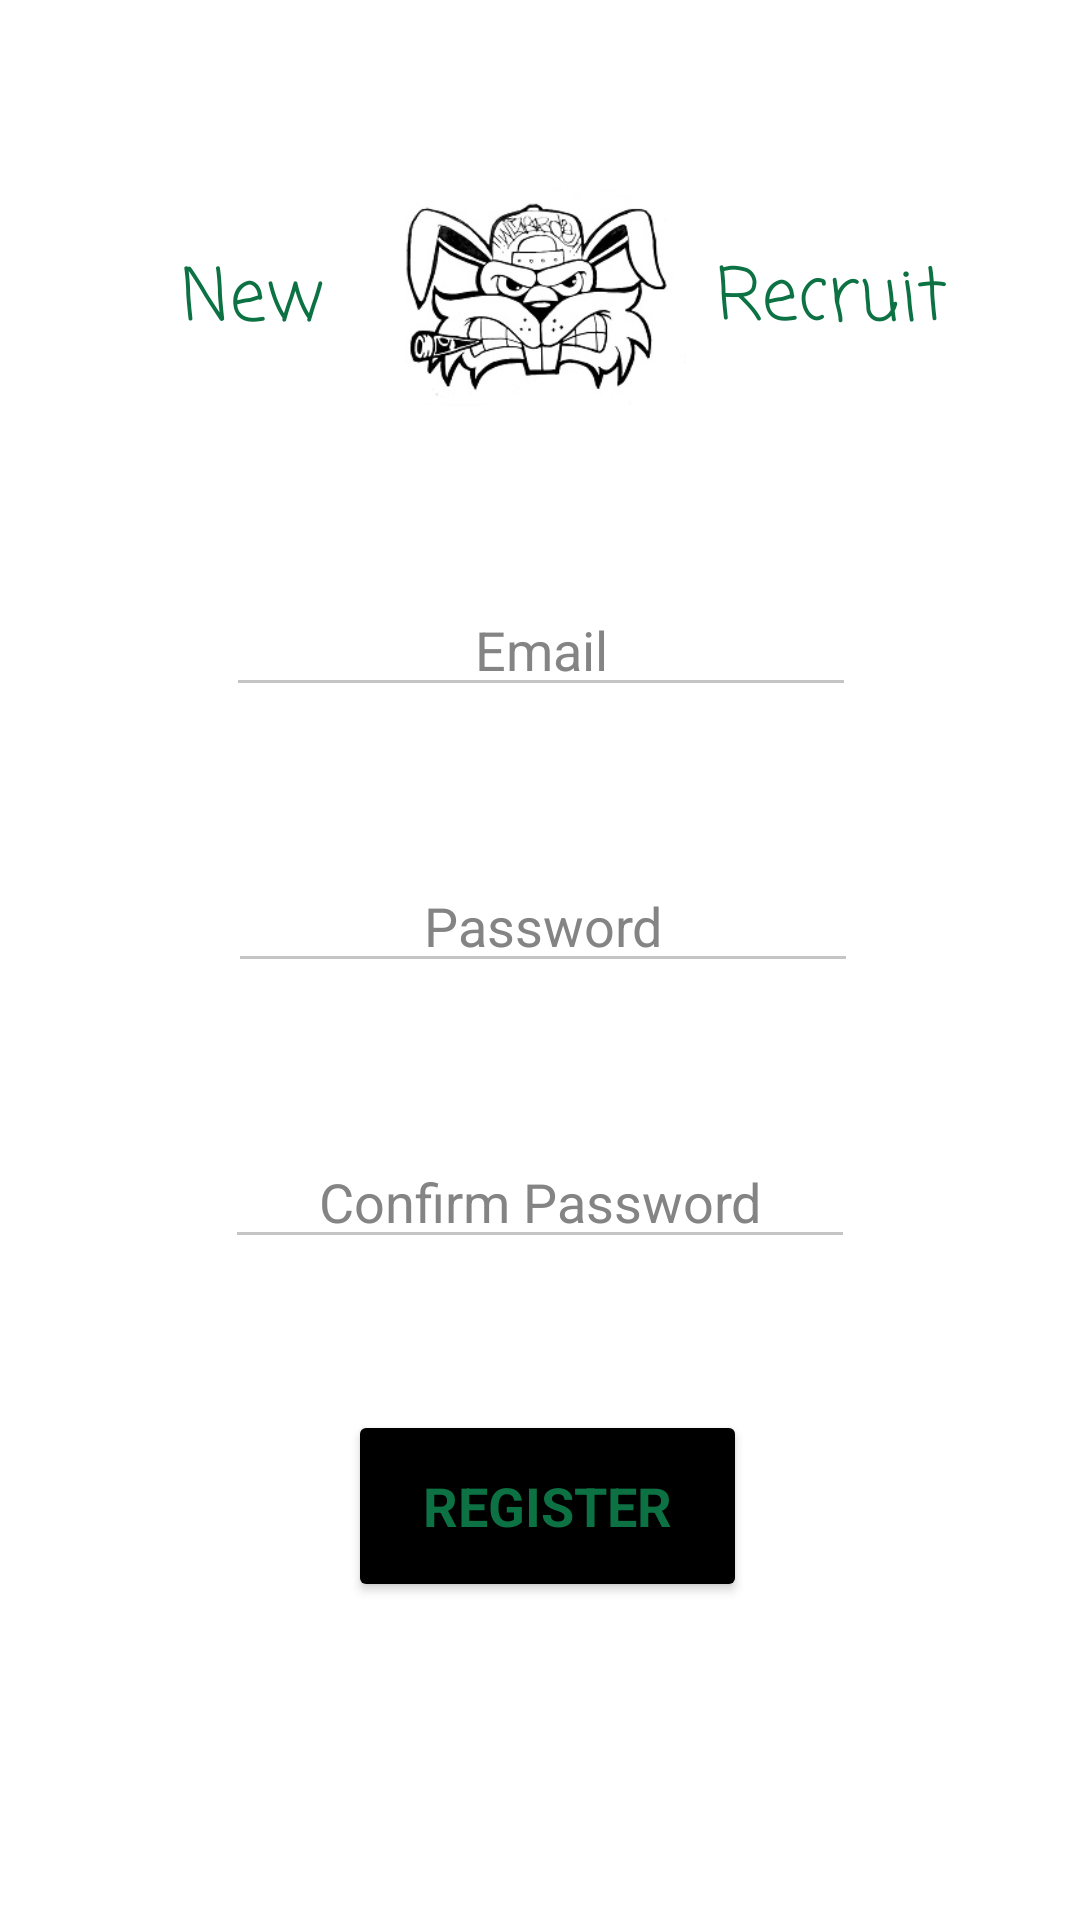

Icons on this 1080*1920 Android screen, each with the point to tap as (x=x, y=y):
rabbitimg: (x=536, y=299)
